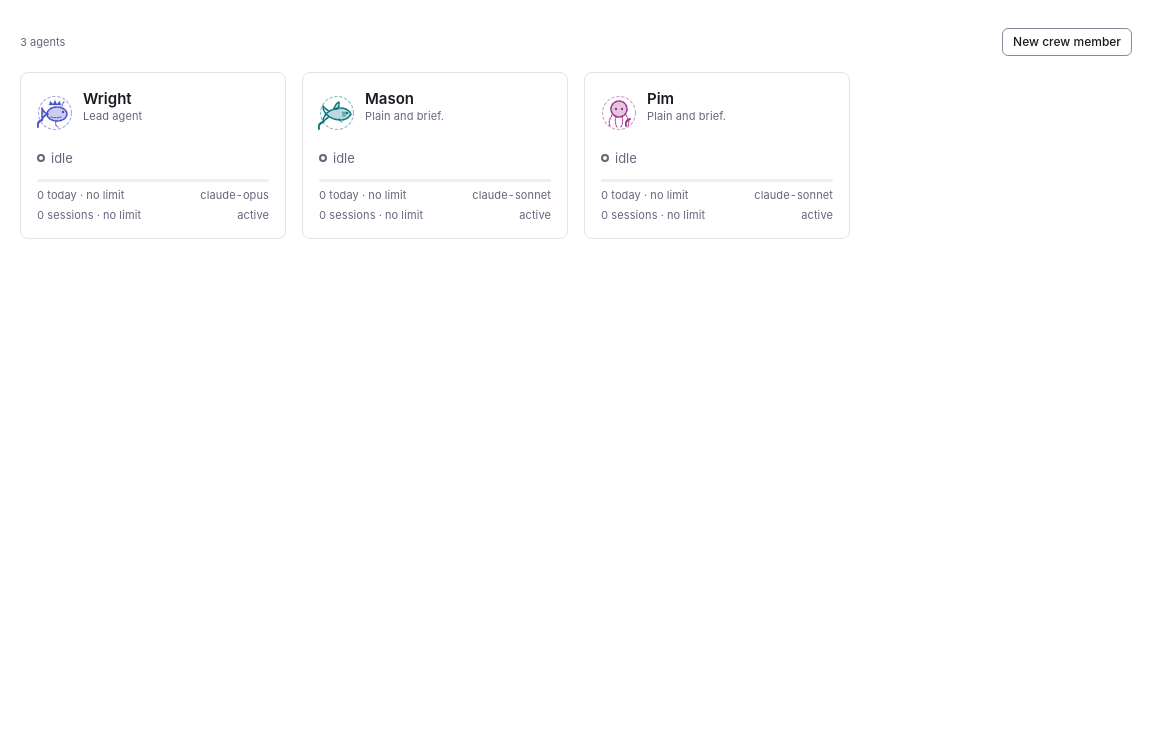
Test: the Connectors row › refetches GET /connectors on a connector_status event, and on no other
Click the button with test id "team-card" that starts with "Mason".
click(337, 113)  # box [302, 72, 568, 239]
(page scrolled)
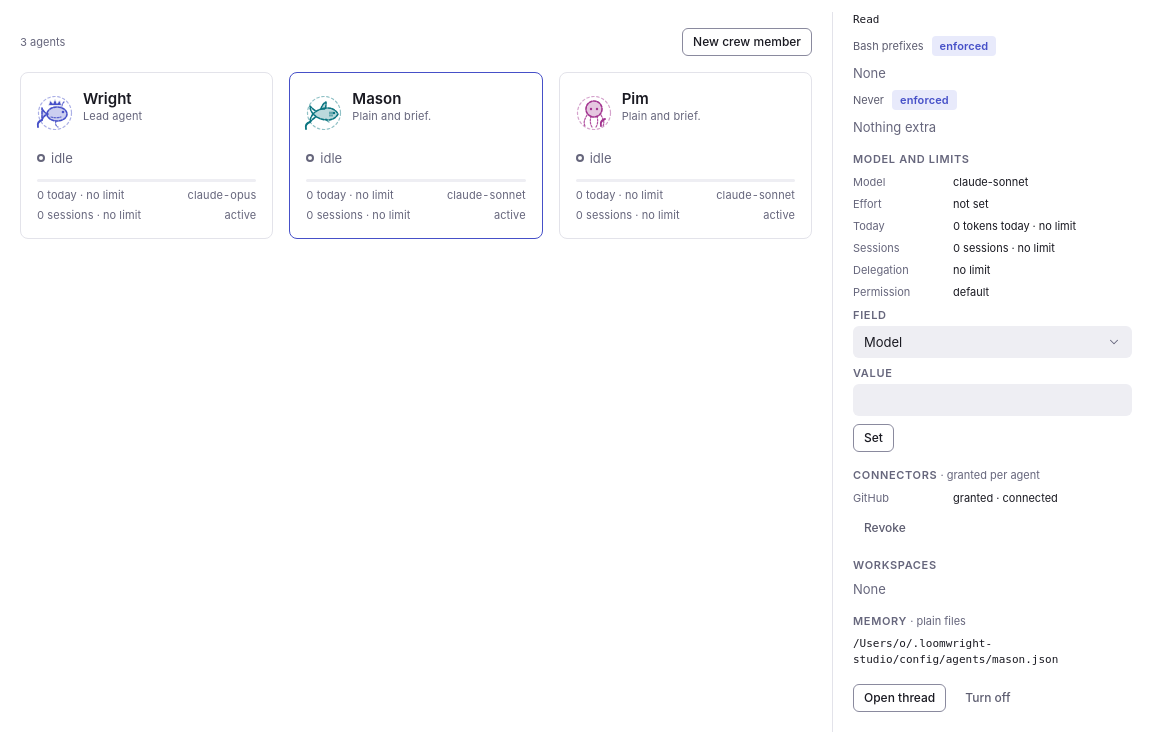
Expected: the text with test id "team-connector-state" reads "connected", [1003, 491, 1058, 505]
